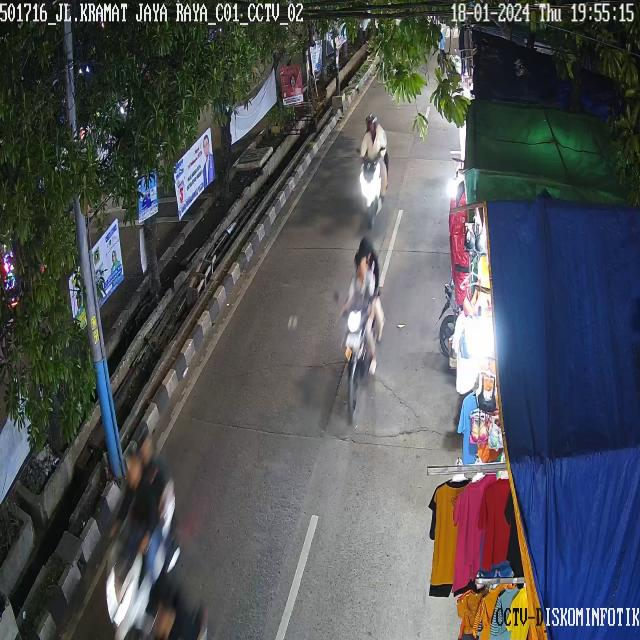Terpal: (469, 184, 640, 639), (463, 24, 640, 210)
